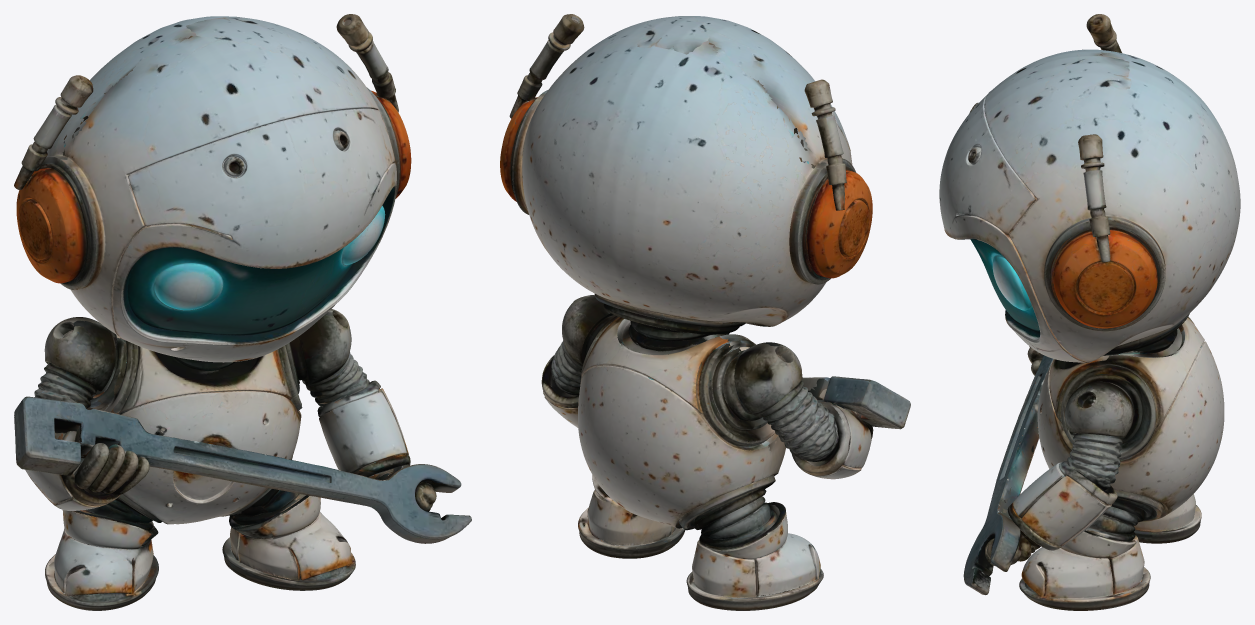
File: astronot3d-compressed.glb
3 renders of one model, left to right at view 1: azimuth 30°, elevation 25°; view 2: azimuth 150°, elevation 25°; view 3: azimuth 270°, elevation 25°, orthographic. The views are drawn at different scales.
Visible parts, largest first — view 1: texture_pbr_v128; view 2: texture_pbr_v128; view 3: texture_pbr_v128.
Boxes of the visible parts, left/top/right/bottom form: texture_pbr_v128: left=14, top=14, right=471, bottom=610; texture_pbr_v128: left=500, top=14, right=910, bottom=610; texture_pbr_v128: left=939, top=14, right=1240, bottom=610.
Size of the model in its own units: 0.7837 by 1.03 by 0.5627.
Materials: 1 (1 with a texture image).
